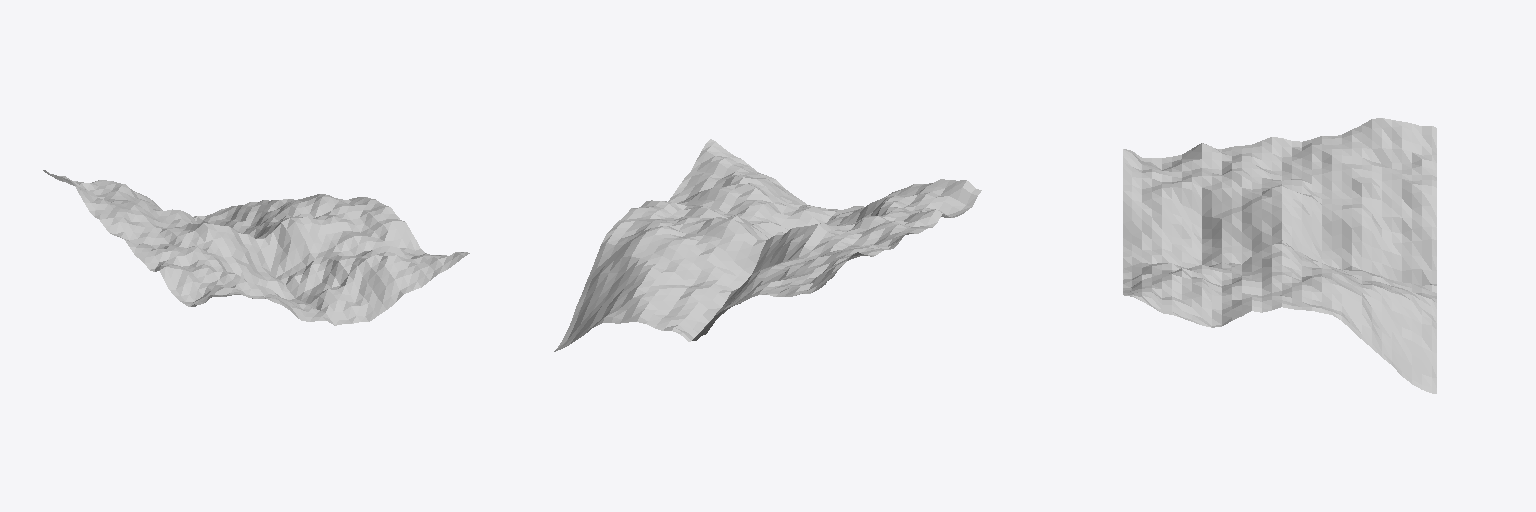
File: heightmap.069.obj
The picture shows the model from 3 angles: view 1: azimuth 30°, elevation 25°; view 2: azimuth 150°, elevation 25°; view 3: azimuth 270°, elevation 25°; orthographic projection.
Parts seen in each view (by area): view 1: heightmap.069_Plane.069; view 2: heightmap.069_Plane.069; view 3: heightmap.069_Plane.069.
Boxes of the visible parts, x1=… form: heightmap.069_Plane.069: x1=43, y1=170, x2=469, y2=325; heightmap.069_Plane.069: x1=554, y1=139, x2=981, y2=351; heightmap.069_Plane.069: x1=1123, y1=118, x2=1436, y2=393.
Size of the model in its own units: 32 by 16.19 by 32.